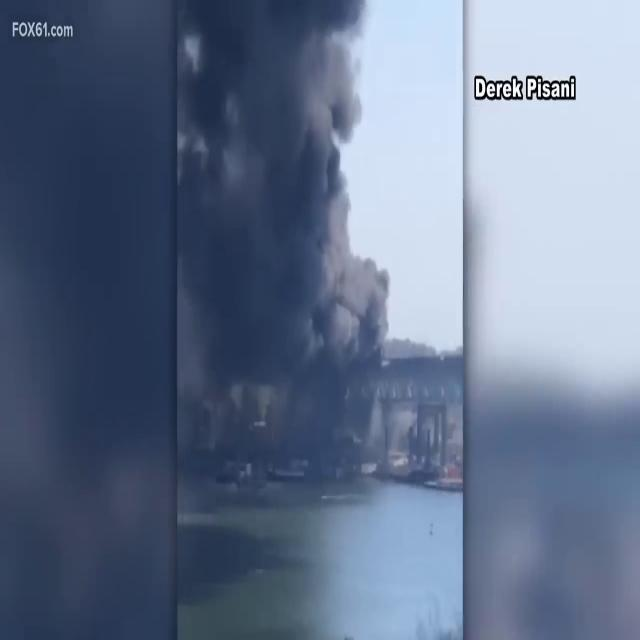Smoke: (178, 0, 382, 417)
